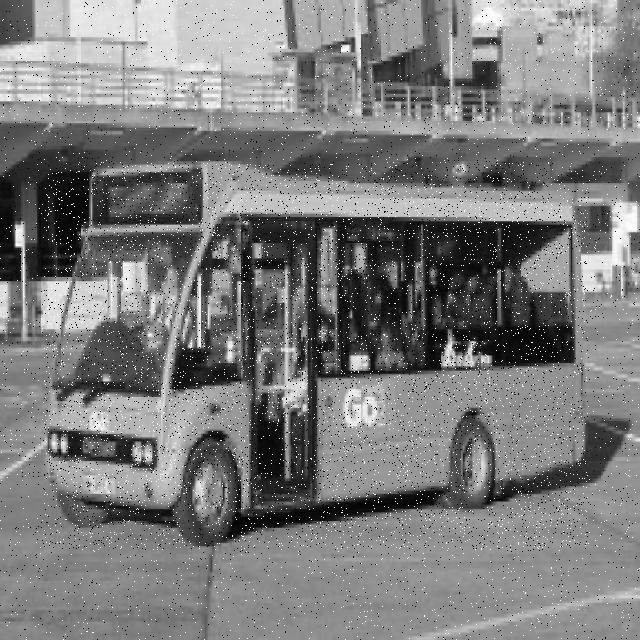Bus- Small: (44, 162, 588, 549)
